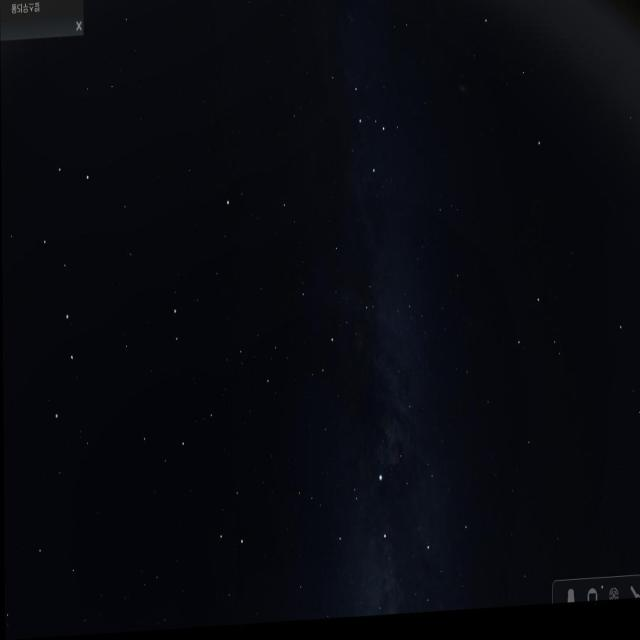cassiopeia: (326, 72, 408, 190)
cygnus: (322, 458, 436, 623)
ursa_major: (35, 150, 97, 431)
